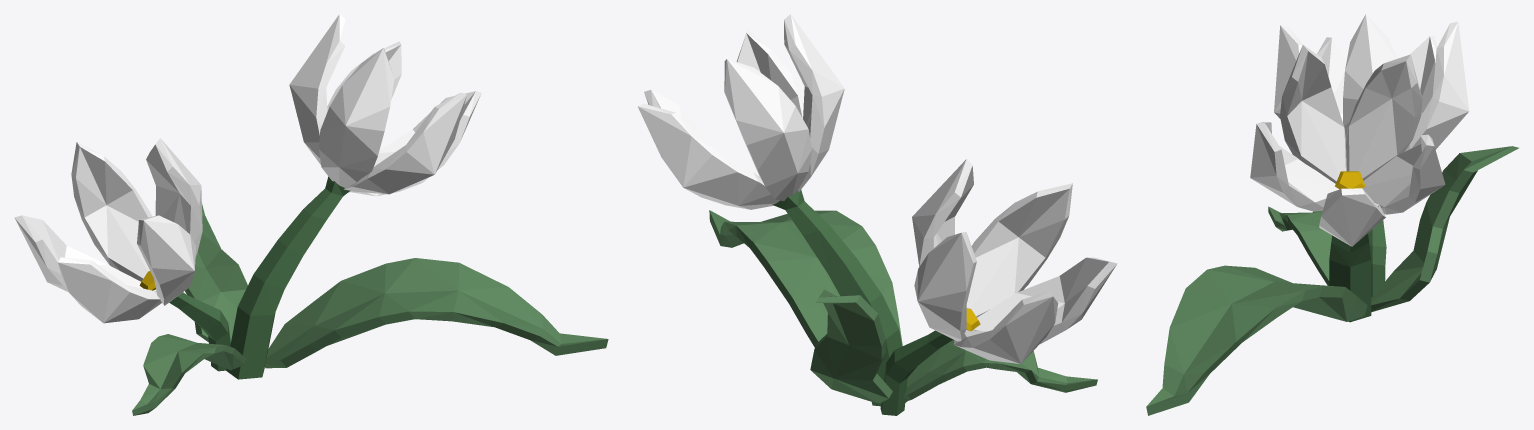
File: _flower_1.glb
3 views of the same model, side by side, from view 1: azimuth 30°, elevation 25°; view 2: azimuth 150°, elevation 25°; view 3: azimuth 270°, elevation 25° (orthographic). The views are drawn at different scales.
Parts seen in each view (by area): view 1: flower_1; view 2: flower_1; view 3: flower_1.
Boxes of the visible parts, bbox=[...] form: flower_1: bbox=[14, 14, 608, 415]; flower_1: bbox=[637, 14, 1117, 415]; flower_1: bbox=[1146, 14, 1518, 415].
Bounding box in the file's own units: 0.9778 × 0.6285 × 0.6514.
1 material, 1 textured.
